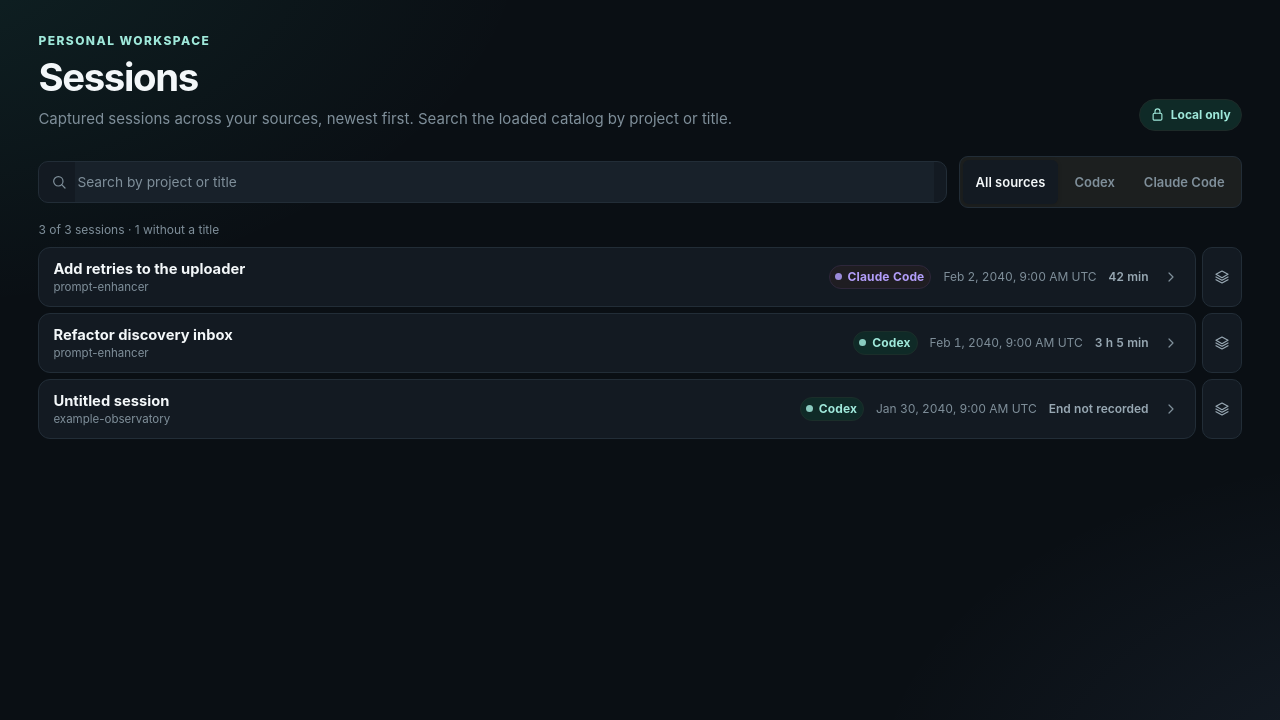
it: SessionsPage › filters by source and searches by project or title, and opens the session route
Later steps or results of the test are not shown.
Click the button "Claude Code": (1184, 182) [1131, 160, 1238, 204]
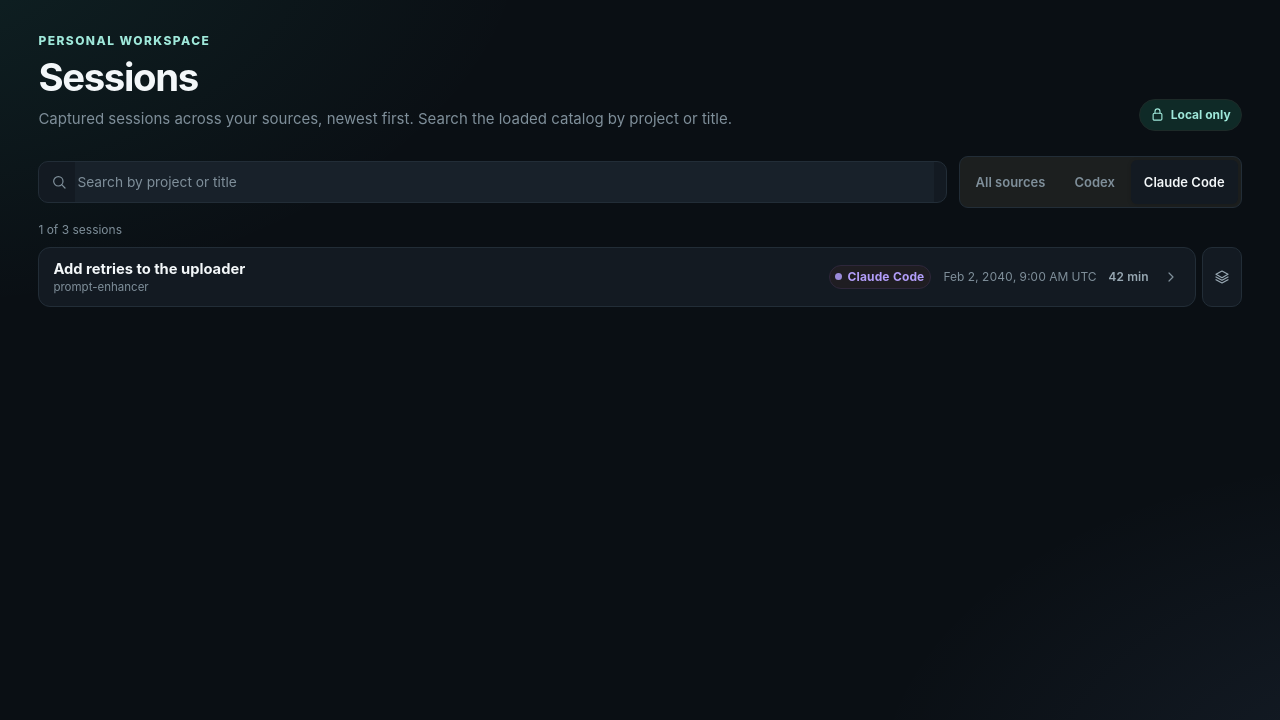
Result: the number of list items is 1 at [38, 247, 1242, 307]
Click the button "All sources": (1010, 182) [963, 160, 1058, 204]
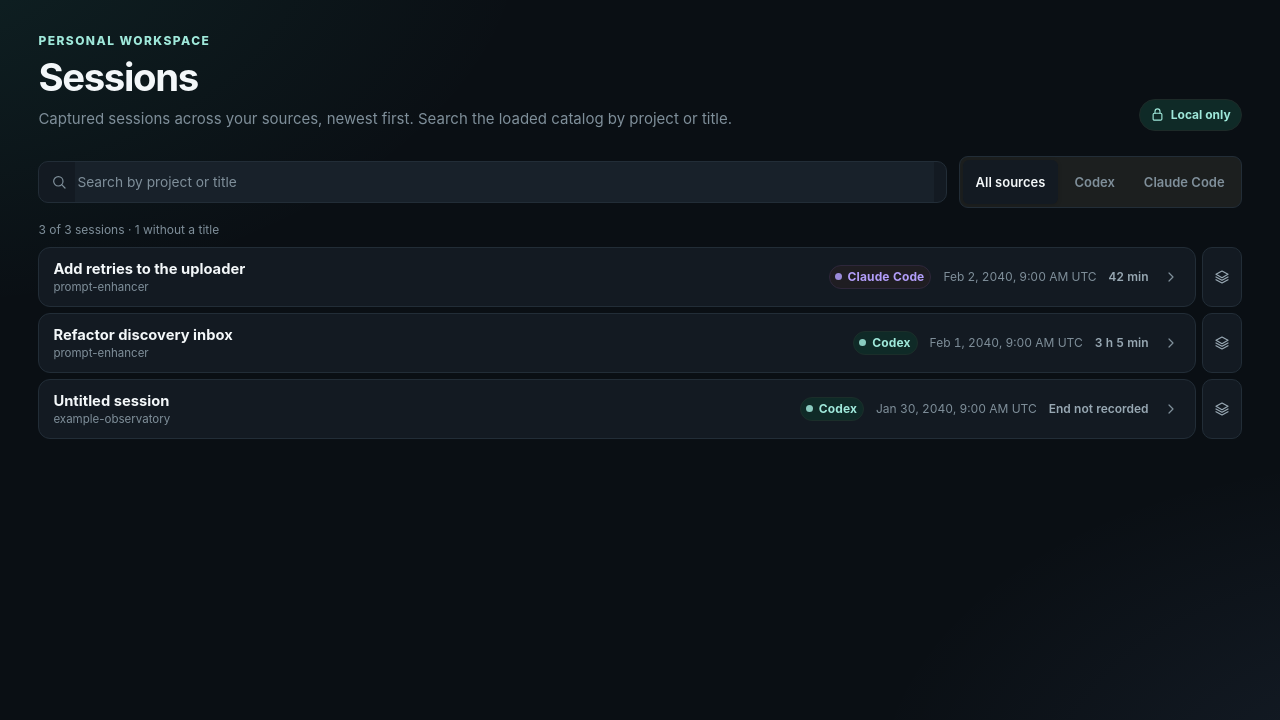
In the search field named "Search sessions by project or title": (504, 182) [75, 162, 934, 202], type "observatory"
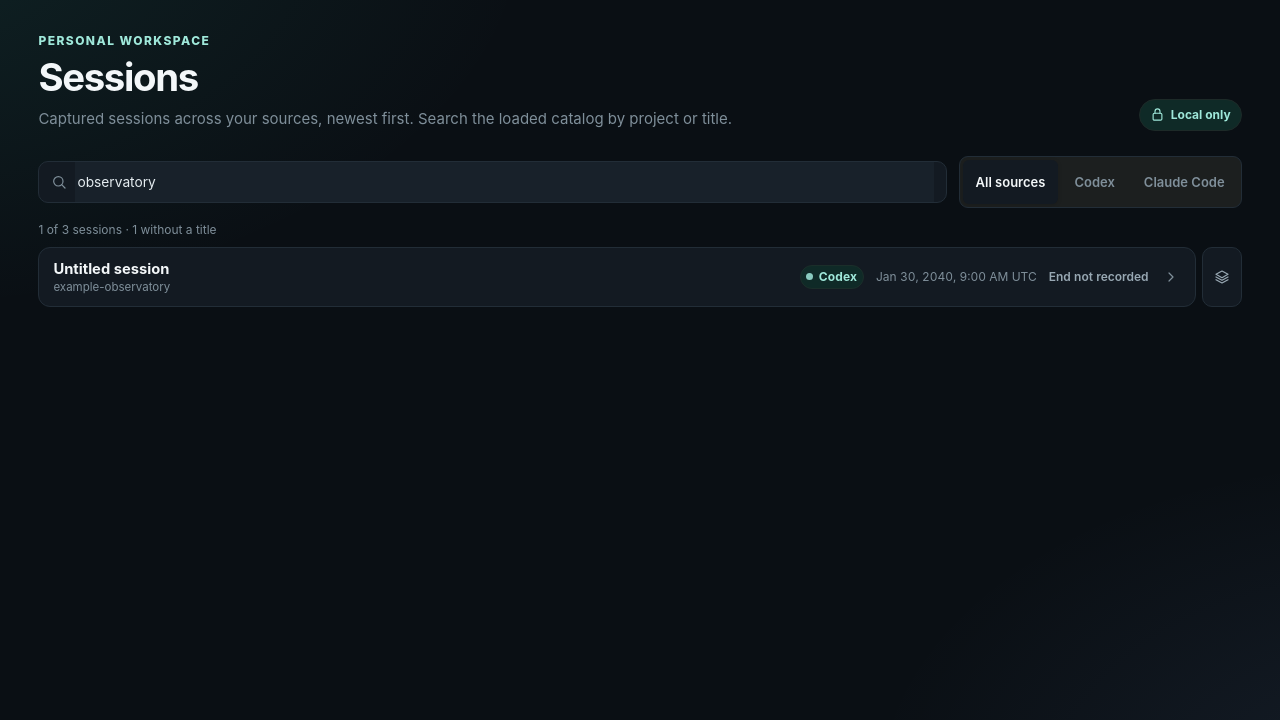
Result: the number of list items is 1 at [38, 247, 1242, 307]
